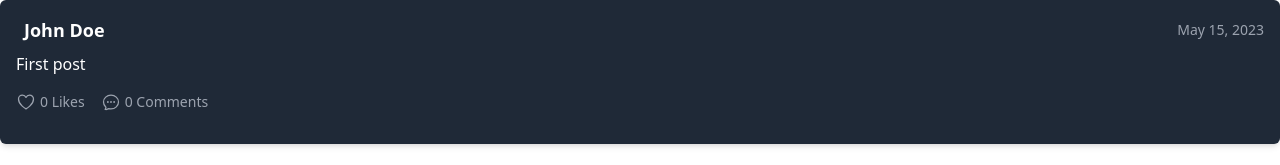
Test: Post Component › renders and interacts correctly
expect the text "First post" is shown: met, box x1=16 y1=53 x2=86 y2=75
expect the link "John Doe" is shown: met, box x1=24 y1=16 x2=104 y2=44
# Simulate liking the post
What coordinates should you click on to do the following:
click the button "0 Likes"
I would click on:
 (50, 102)
Its box is x1=16 y1=92 x2=85 y2=112.
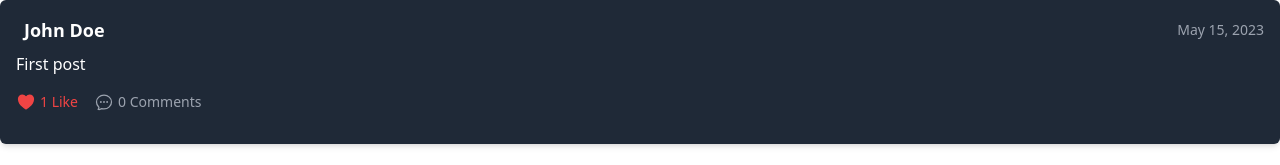
expect the text "1 Like" is shown: met, box x1=40 y1=92 x2=78 y2=112
